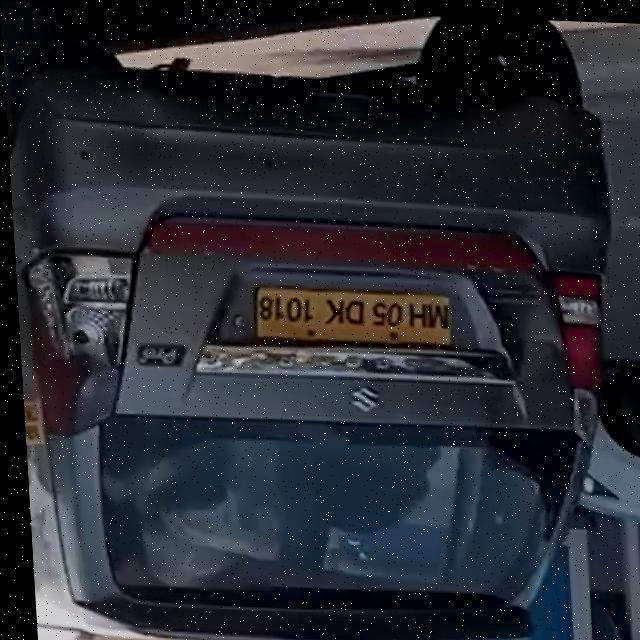plate: (249, 285, 453, 347)
